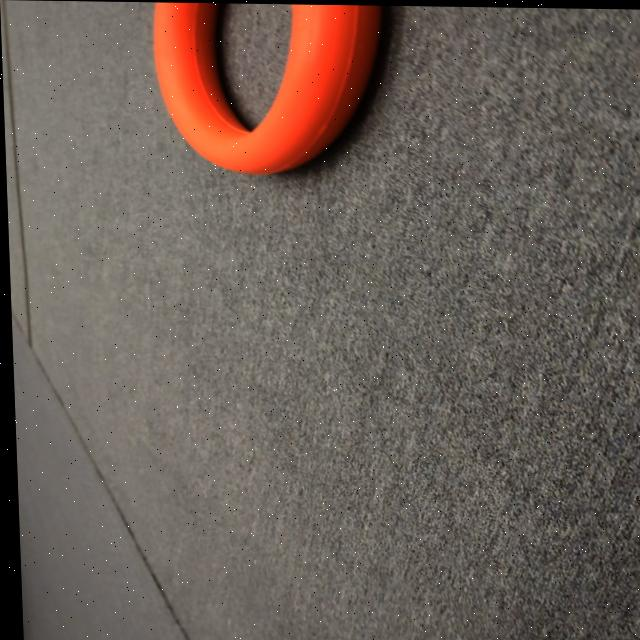note: (152, 2, 387, 178)
